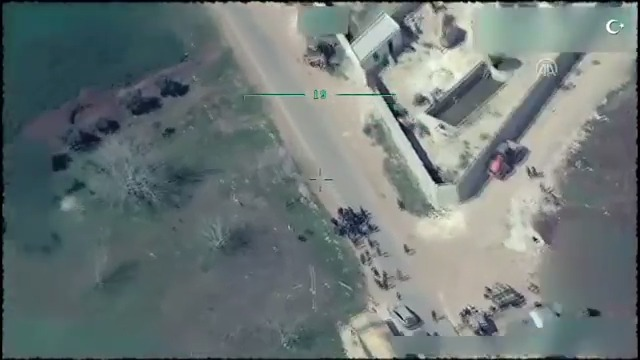arac: (487, 136, 529, 184), (383, 298, 423, 332)
bina: (346, 6, 413, 73)
insan: (402, 236, 415, 255)
